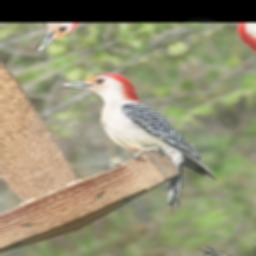Woodpecker: (56, 54, 225, 220)
